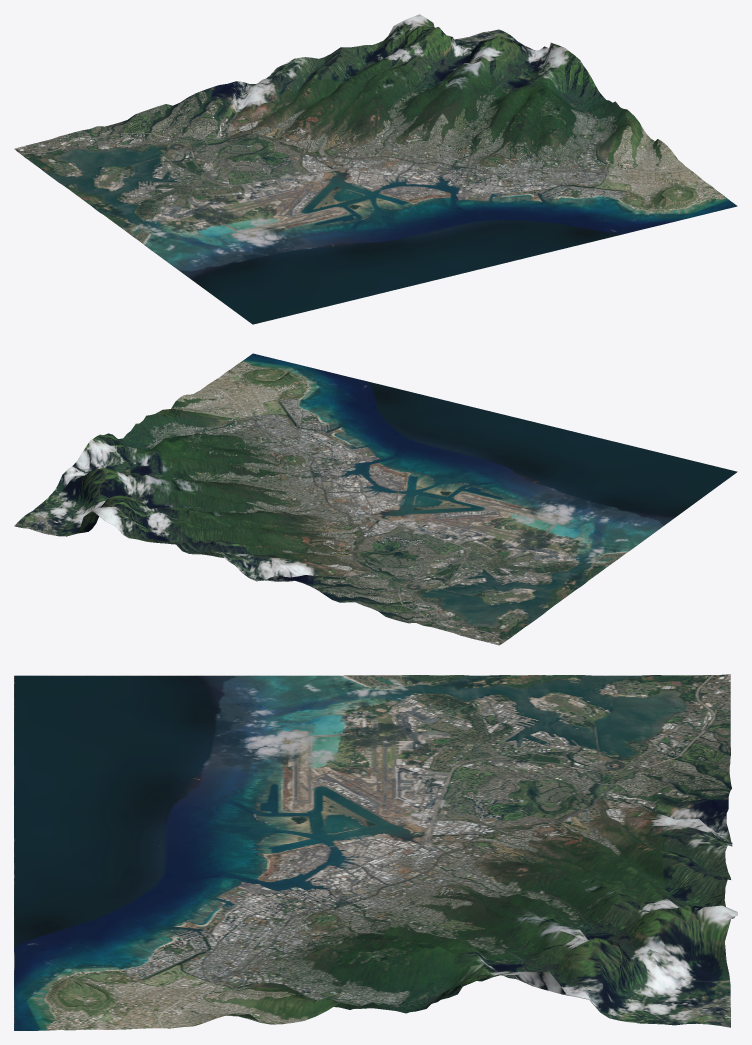
The model's file is komodo_dragon.glb.
3 views of the same model, one above another, from view 1: azimuth 30°, elevation 25°; view 2: azimuth 150°, elevation 25°; view 3: azimuth 270°, elevation 25° (orthographic). The views are drawn at different scales.
Visible parts, largest first — view 1: skfb_offset; view 2: skfb_offset; view 3: skfb_offset.
Boxes of the visible parts, x1=… form: skfb_offset: x1=14, y1=14, x2=737, y2=324; skfb_offset: x1=14, y1=353, x2=737, y2=645; skfb_offset: x1=14, y1=674, x2=737, y2=1030.
Bounding box in the file's own units: 20868 × 1598 × 17913.
Materials: 1 (1 with a texture image).
